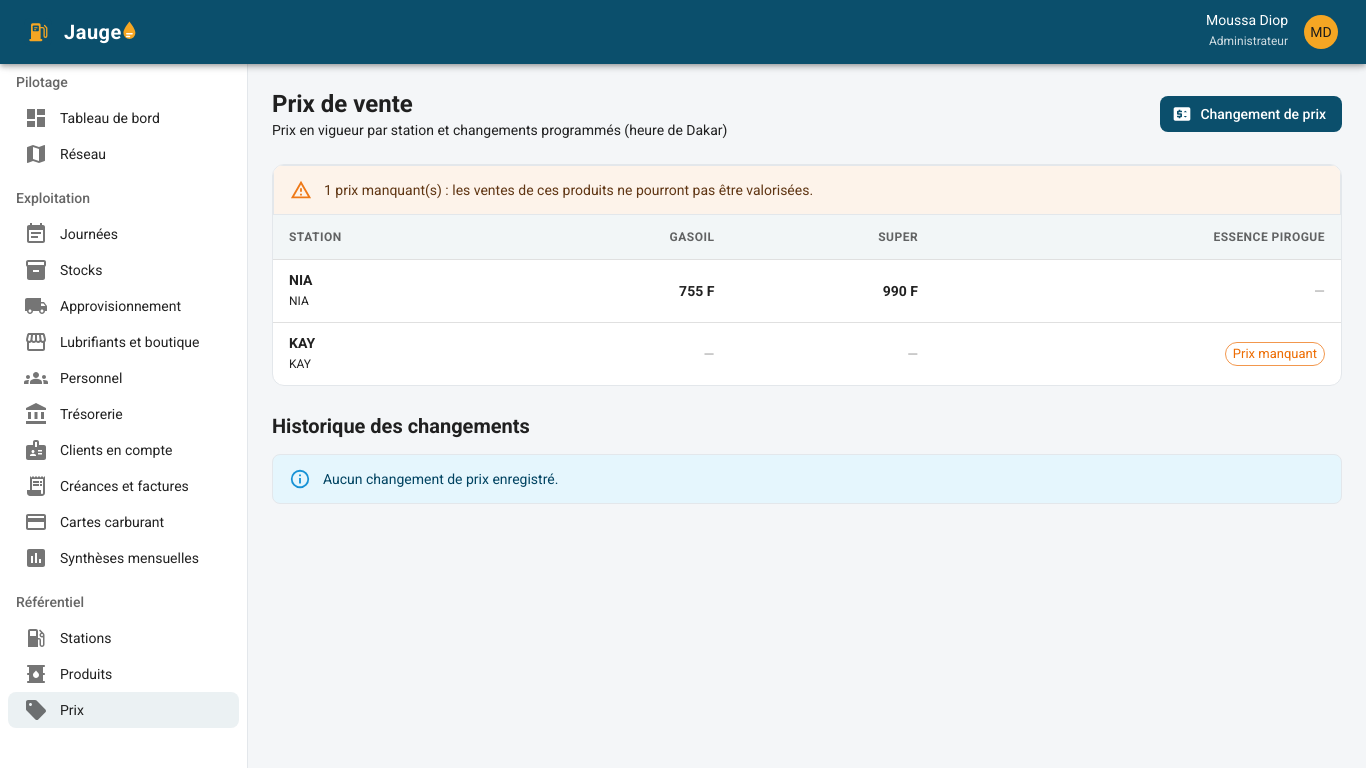
Test: page Prix › signale les prix manquants et fait confirmer une variation de plus de 20 % avant d'enregistrer
The width and height of the screenshot is (1366, 768).
Expected: the text "1 prix manquant" is shown, x1=324 y1=182 x2=813 y2=198
Expected: the text "755 F" is shown, x1=679 y1=283 x2=714 y2=299
Step 1. Click the button "Changement de prix" → [1251, 114], box x1=1160 y1=96 x2=1342 y2=132
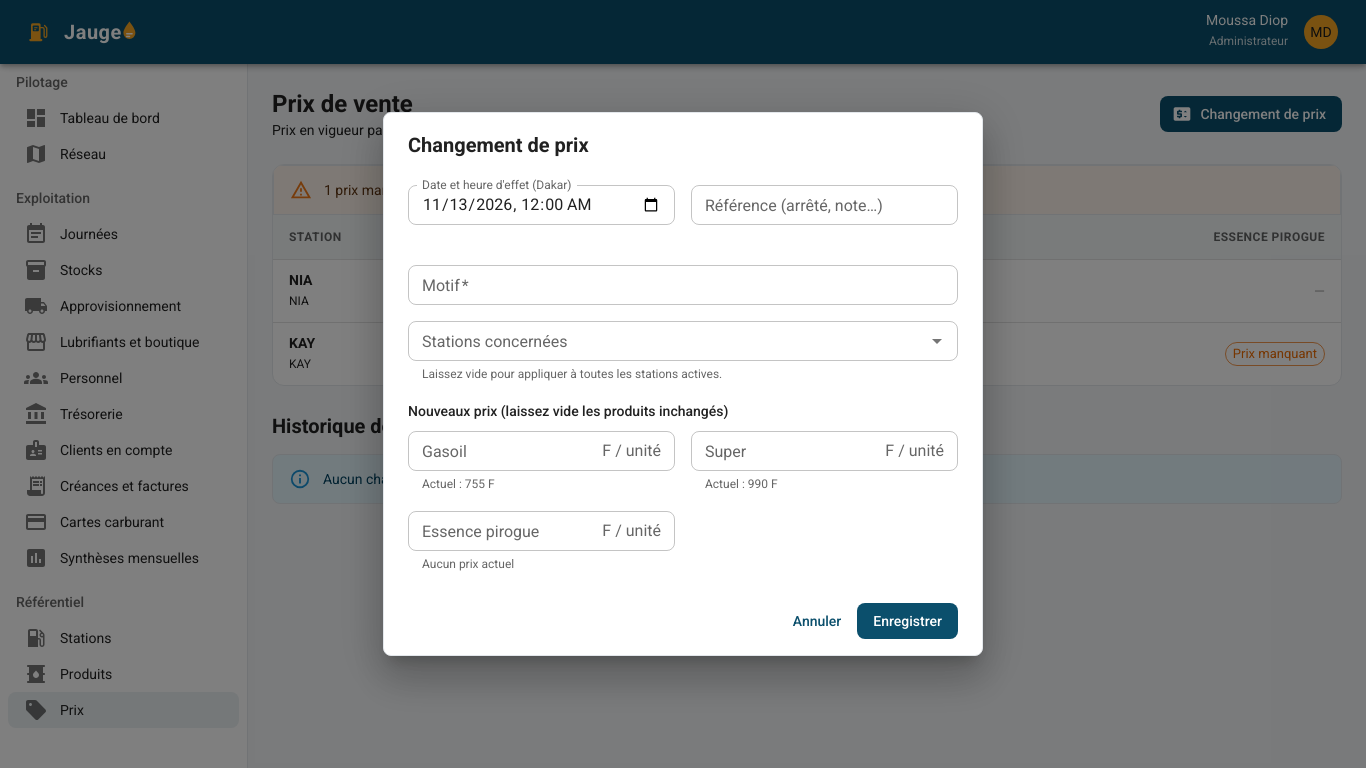
# Sans motif ni prix : rien n'est envoyé
Step 2. Click the button "Enregistrer" → [908, 621], box x1=857 y1=602 x2=958 y2=639
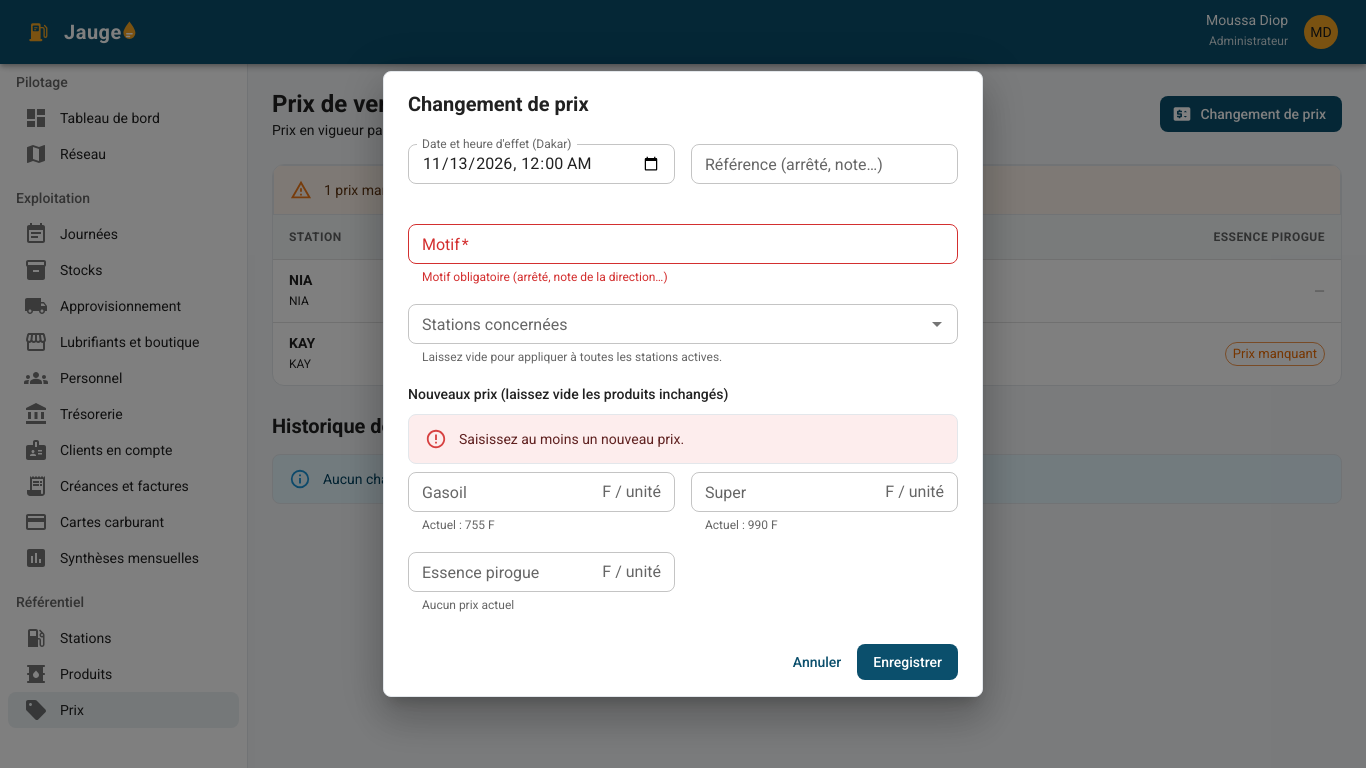
Expected: the text "Actuel : 755 F" is shown, x1=422 y1=518 x2=495 y2=532
Expected: the text "Motif obligatoire (arrêté, note de la direction…)" is shown, x1=422 y1=270 x2=668 y2=284
Step 3. Type "Arrêté de novembre" into the field labelled "Motif *" → [683, 244], box x1=408 y1=224 x2=958 y2=264
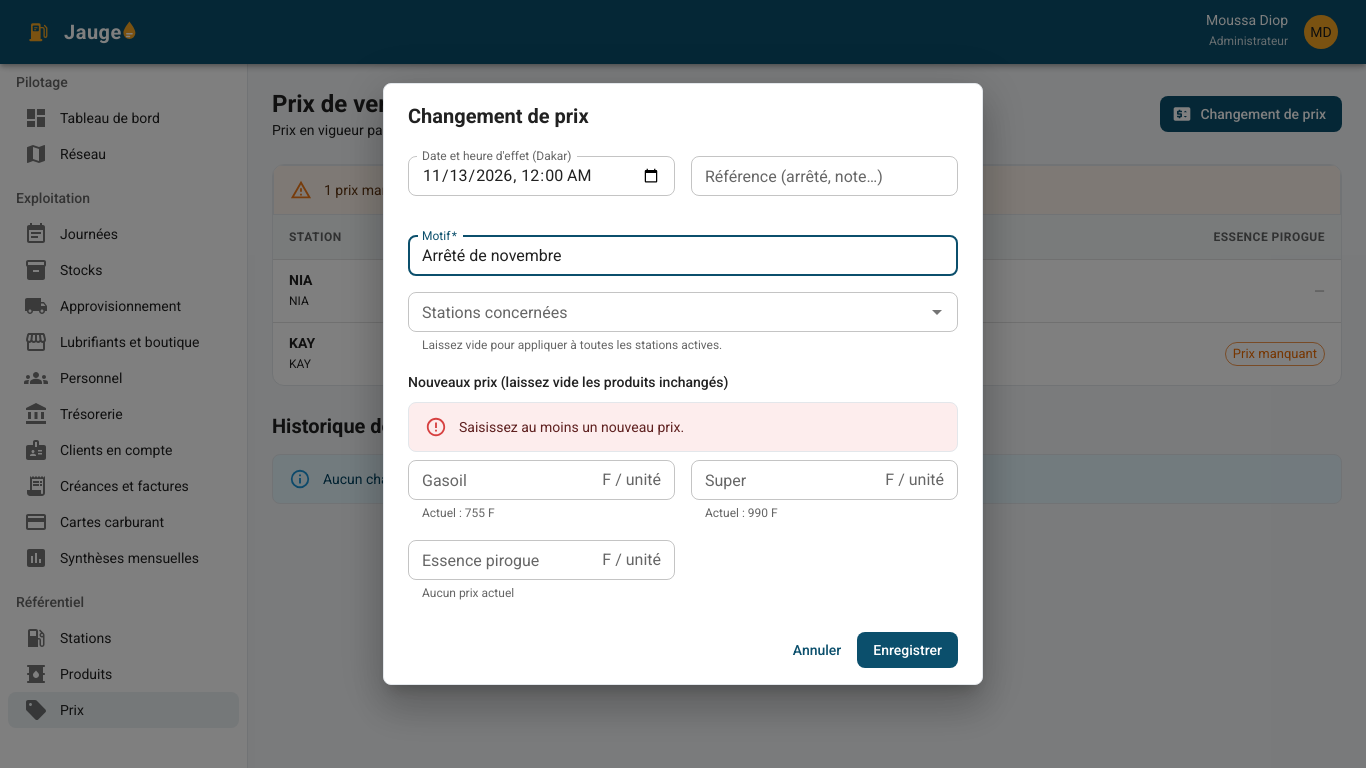
Step 4. Type "7550" into the field labelled "Gasoil" → [501, 480], box x1=408 y1=460 x2=594 y2=500
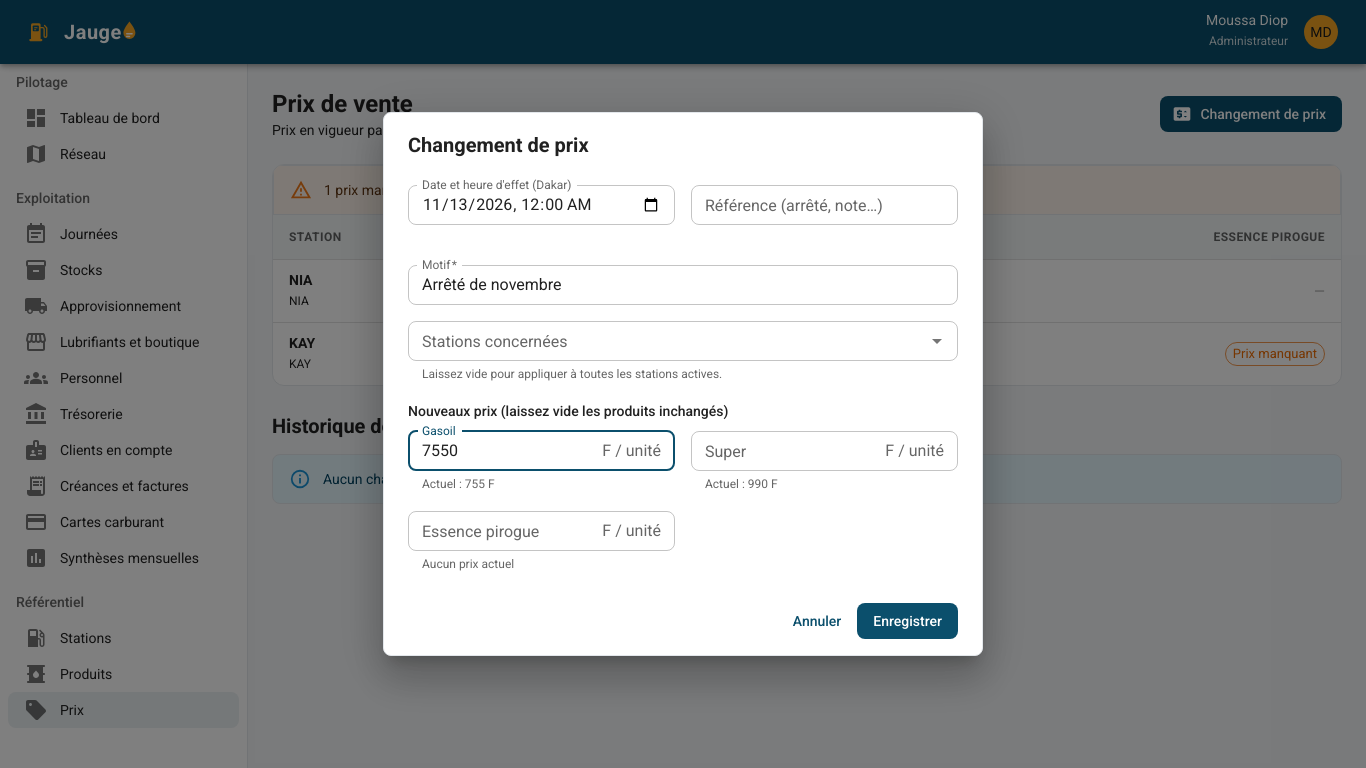
Step 5. Click the button "Enregistrer" → [908, 621], box x1=857 y1=602 x2=958 y2=639
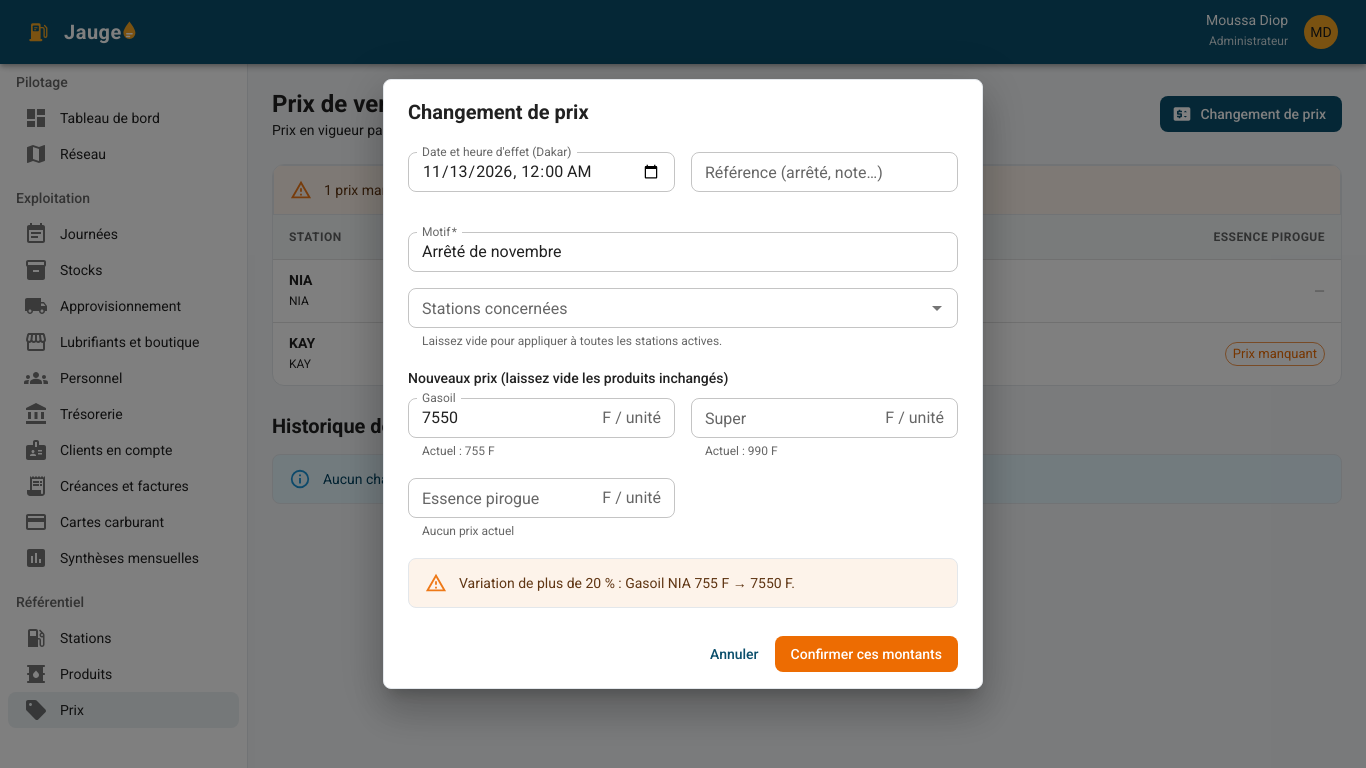
Expected: the message with test id "variation-a-confirmer" shows "7550 F", x1=459 y1=574 x2=795 y2=590
Step 6. Click the button "Confirmer ces montants" → [866, 654], box x1=775 y1=636 x2=958 y2=672
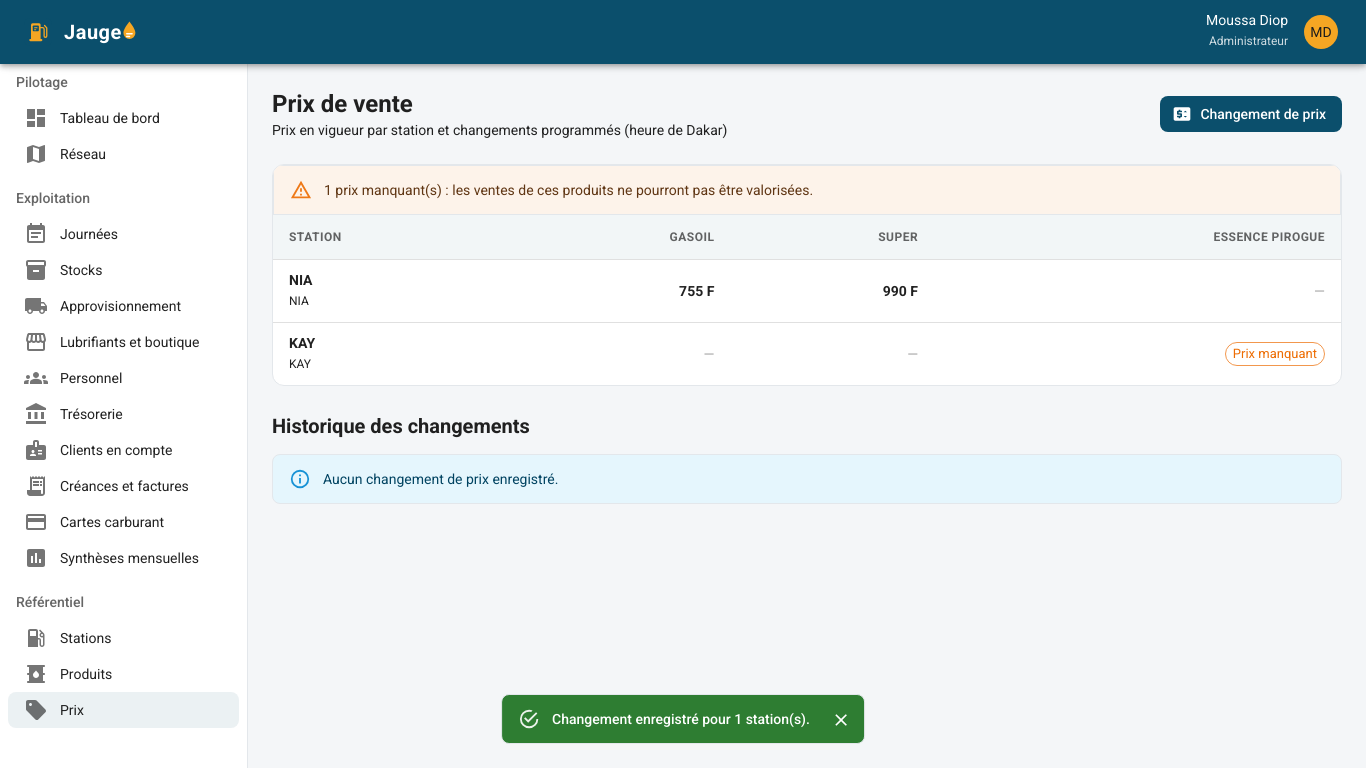
Expected: the dialog is gone
Expected: the text "Changement enregistré pour 1 station(s)." is shown, x1=552 y1=711 x2=810 y2=727
